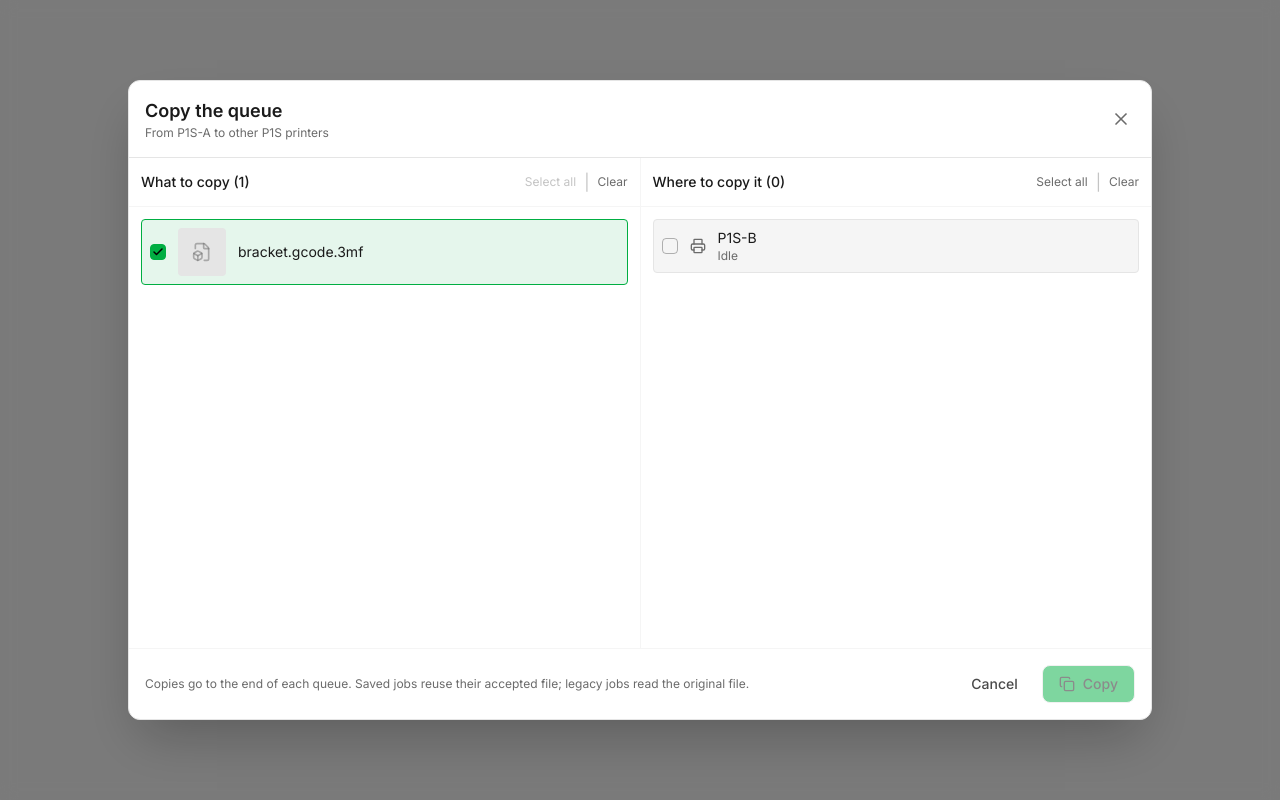
Test: the dialog › will not copy with every item unticked
Click the text "P1S-B" at x=737, y=238, box [718, 229, 757, 246]
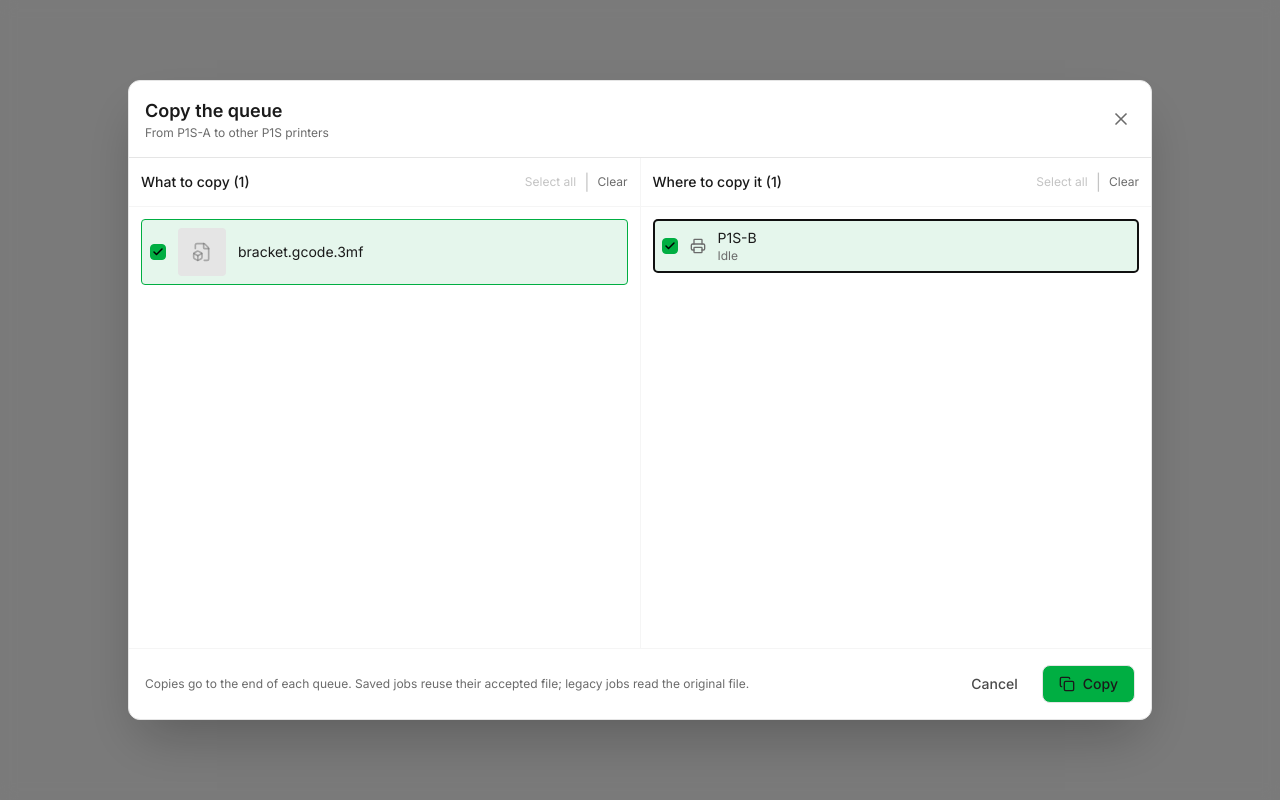
Click the button "Clear" in the row of "What to copy (1)" at x=612, y=182, box [598, 174, 628, 190]
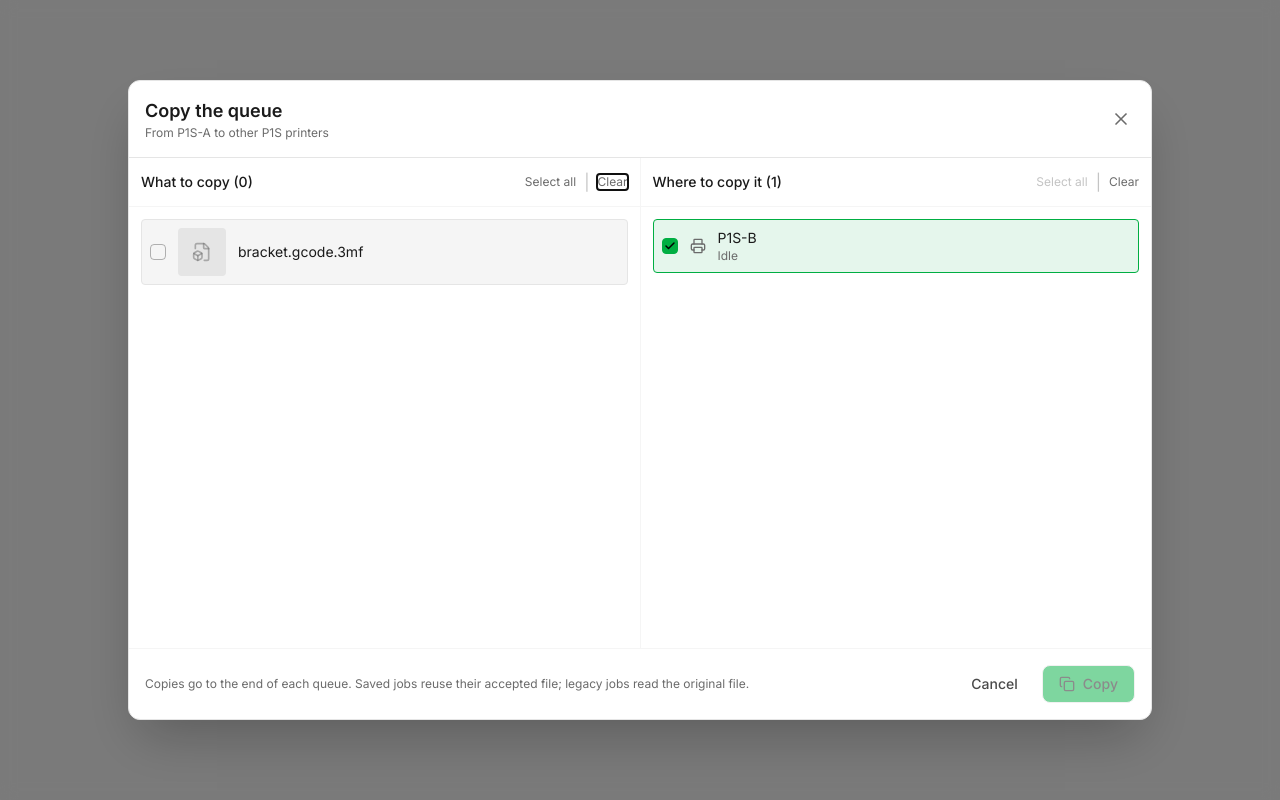
Expected: the button "Copy" is disabled, [1042, 665, 1135, 703]
